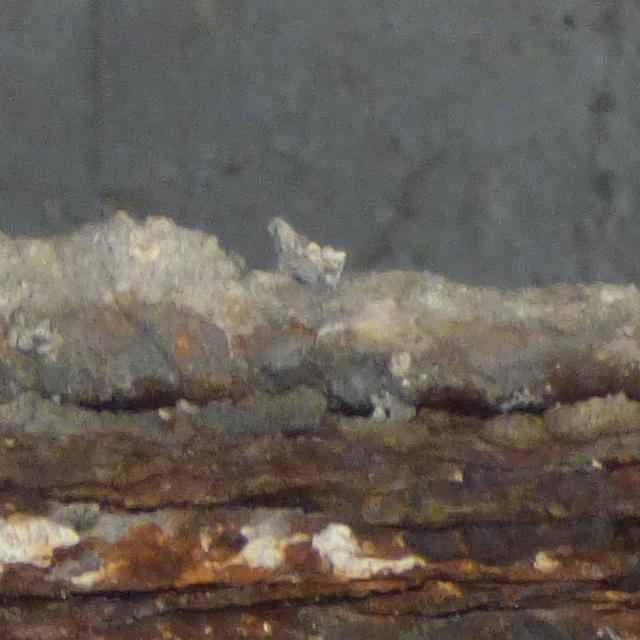Rust: (5, 385, 638, 633)
